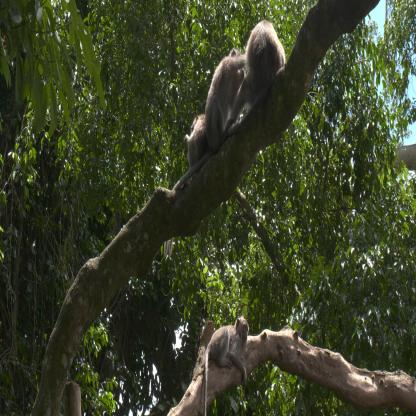monkey: (200, 45, 246, 156), (243, 18, 285, 100), (203, 316, 248, 388)
